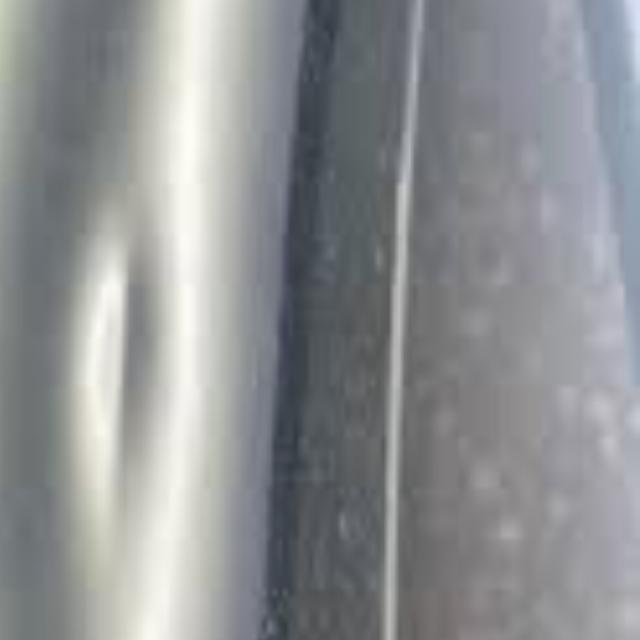dents: (52, 181, 196, 640)
